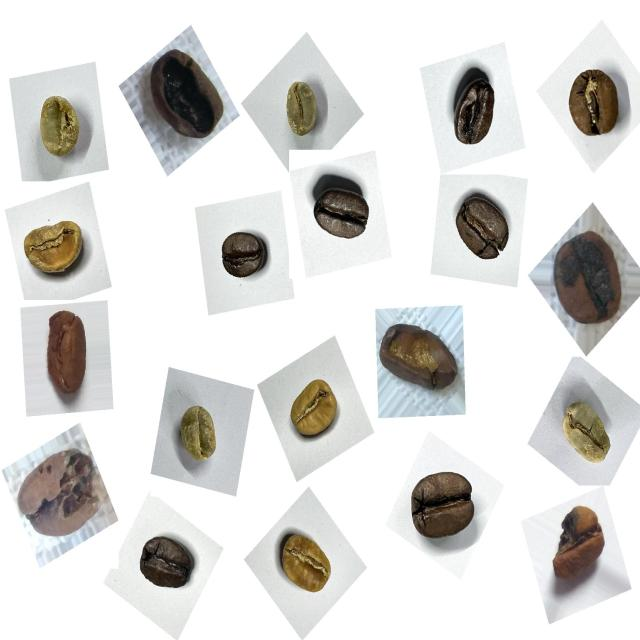bad: (14, 438, 115, 551), (138, 40, 234, 154), (542, 220, 634, 335), (377, 309, 468, 405), (541, 498, 614, 600), (32, 303, 100, 407)
dark: (400, 458, 486, 554), (446, 185, 522, 274), (439, 64, 507, 160), (306, 170, 380, 256), (133, 524, 203, 603), (210, 221, 274, 295)
green: (553, 392, 623, 478), (25, 84, 92, 173), (168, 395, 229, 474), (275, 72, 331, 148)
light: (14, 210, 94, 292), (269, 522, 341, 608), (280, 371, 349, 453)
medium: (556, 61, 632, 149)
